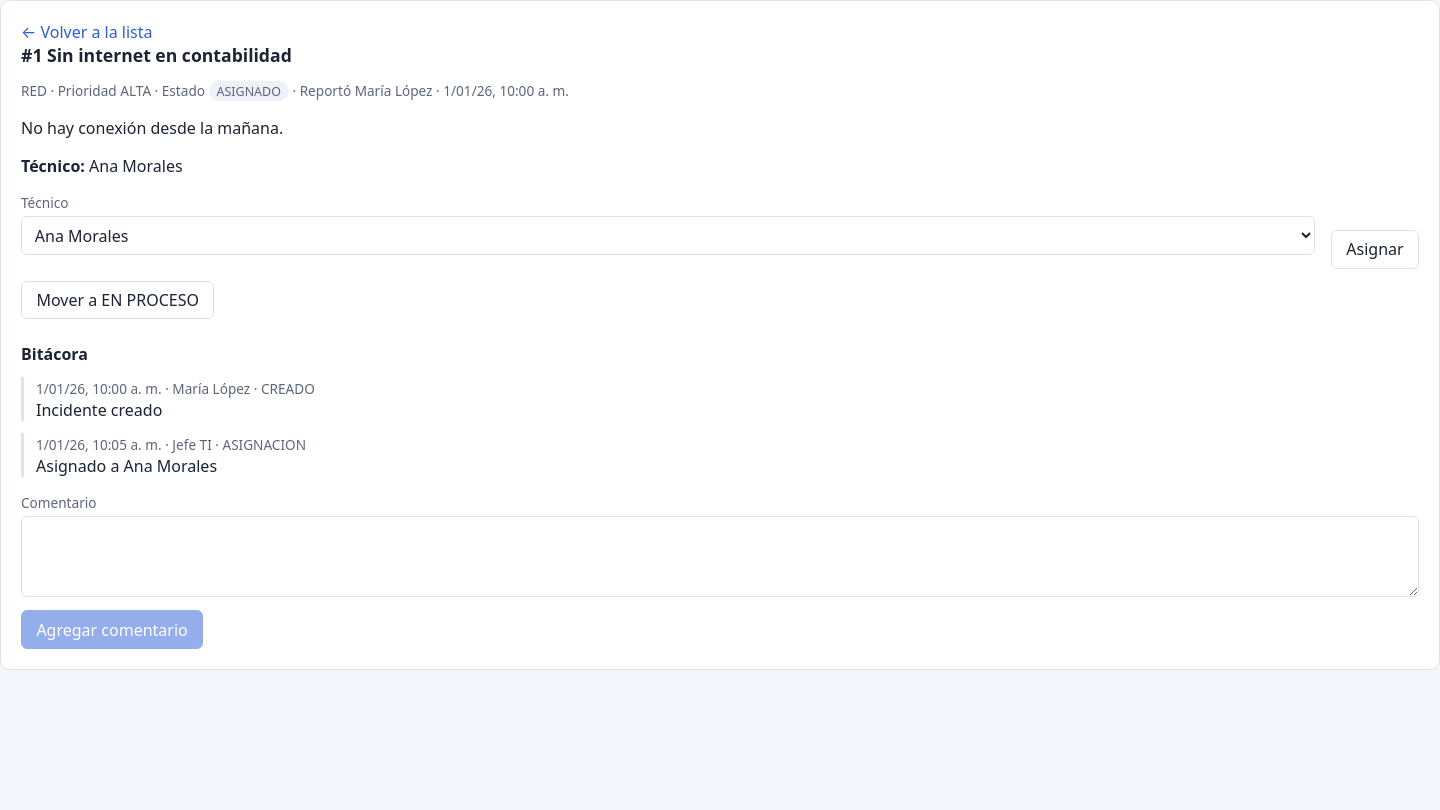
Scenario: IncidentDetail › agrega un comentario con el usuario actual
Type "Revisando el switch" into the text box labelled "Comentario" at (720, 556), box [21,516,1419,597]
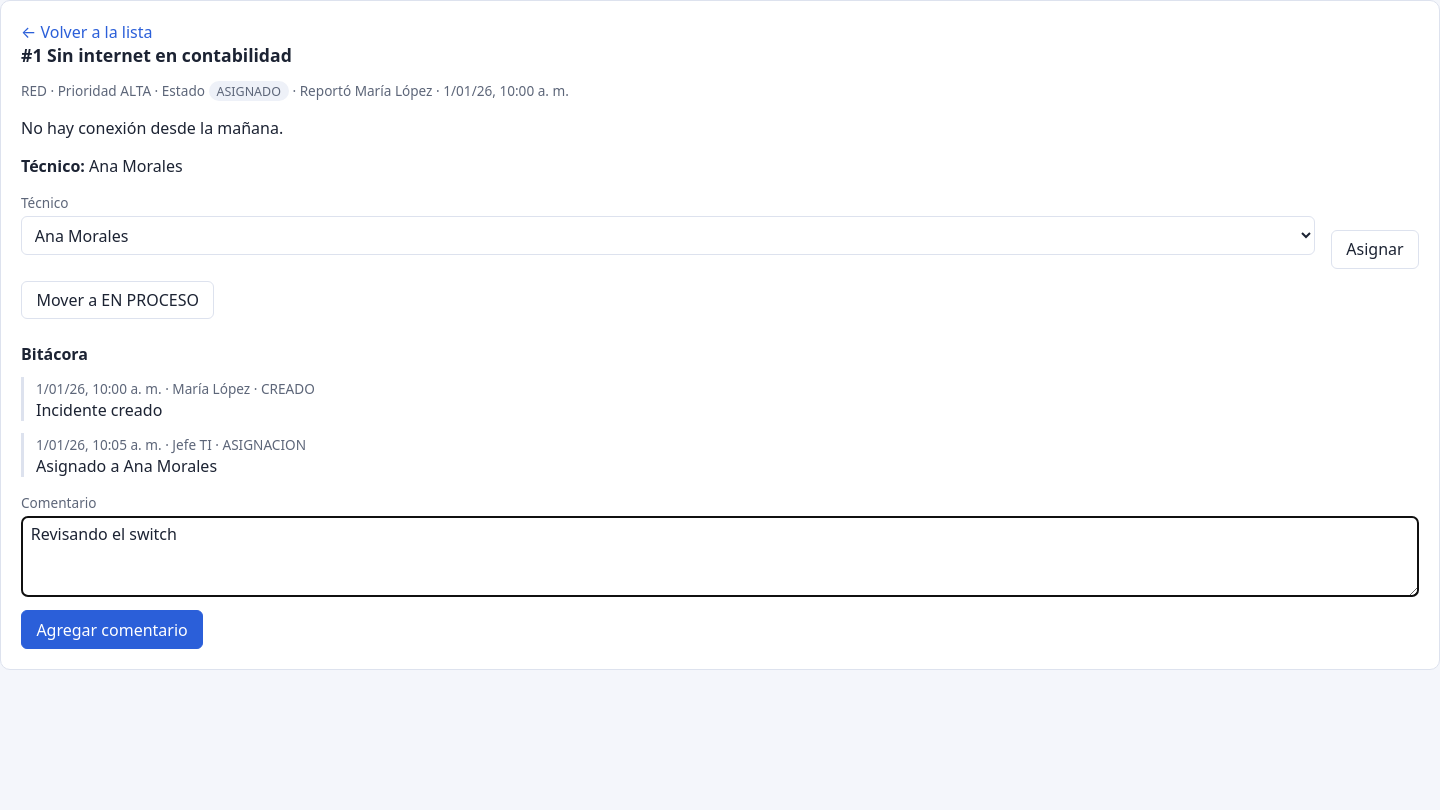
Click the button "Agregar comentario" at (112, 630), box [21,610,203,649]
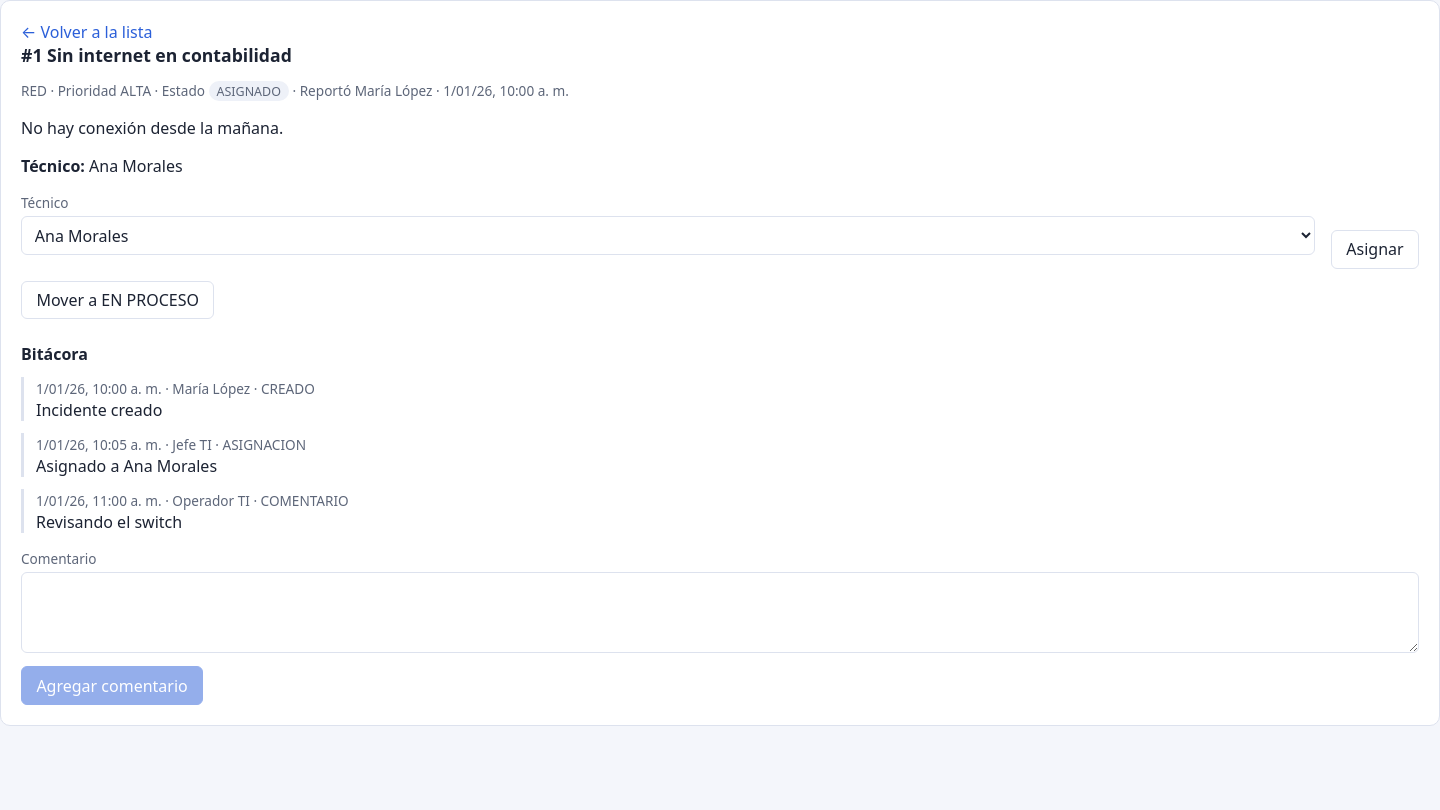
Now the text "Revisando el switch" is shown, box [36,511,182,533]
